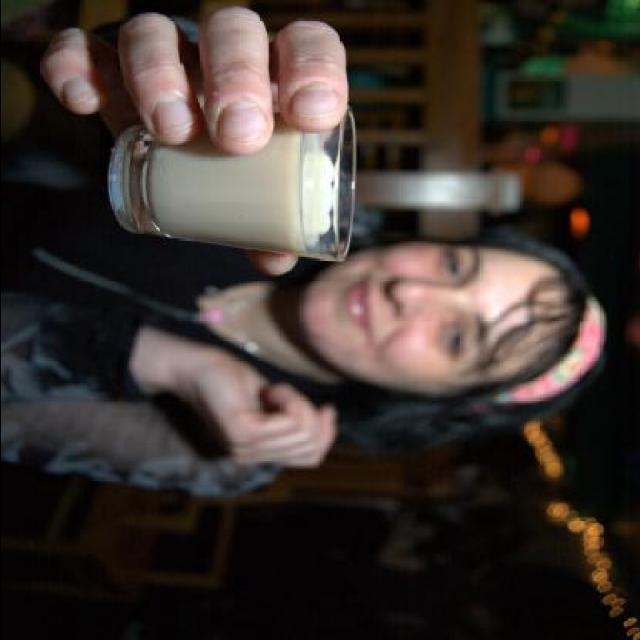Milk: (143, 108, 334, 254)
